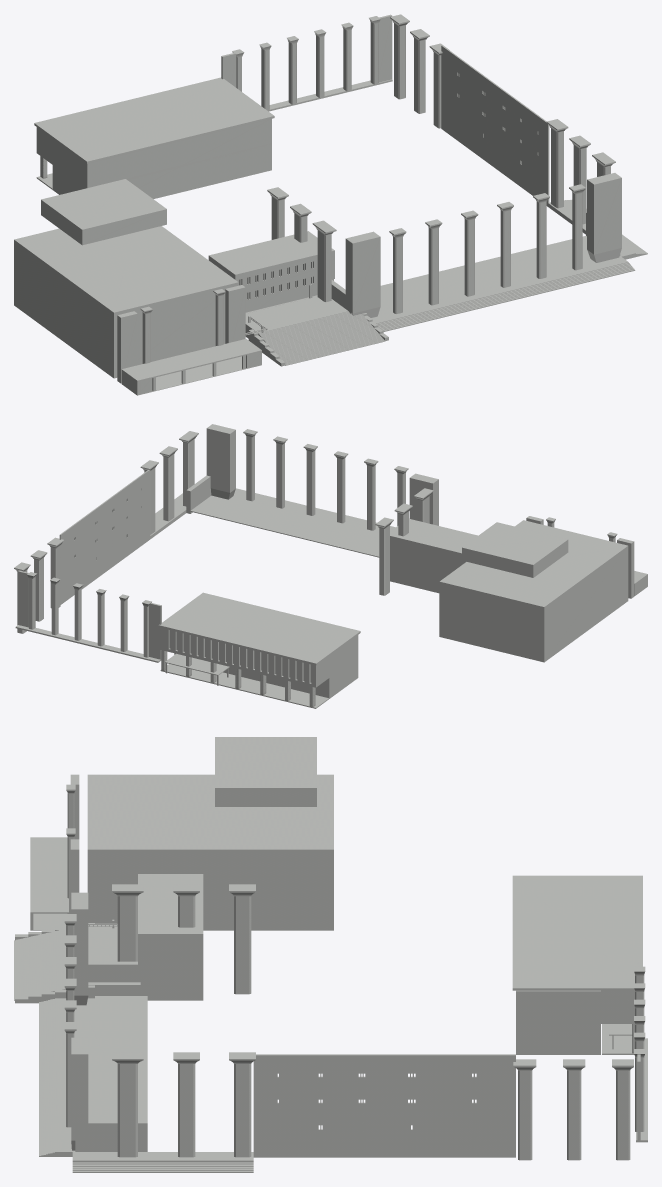
Rendered from colonnade-geometry.glb.
The picture shows the model from 3 angles, top to bottom: view 1: azimuth 30°, elevation 25°; view 2: azimuth 150°, elevation 25°; view 3: azimuth 270°, elevation 25°; orthographic projection. The views are drawn at different scales.
Visible parts, largest first — view 1: stone; view 2: stone; view 3: stone.
Boxes of the visible parts, x1=… form: stone: x1=14, y1=14, x2=647, y2=395; stone: x1=14, y1=424, x2=647, y2=708; stone: x1=14, y1=737, x2=647, y2=1172.
Size of the model in its own units: 149 by 28.67 by 126.
6 materials, 1 textured.
